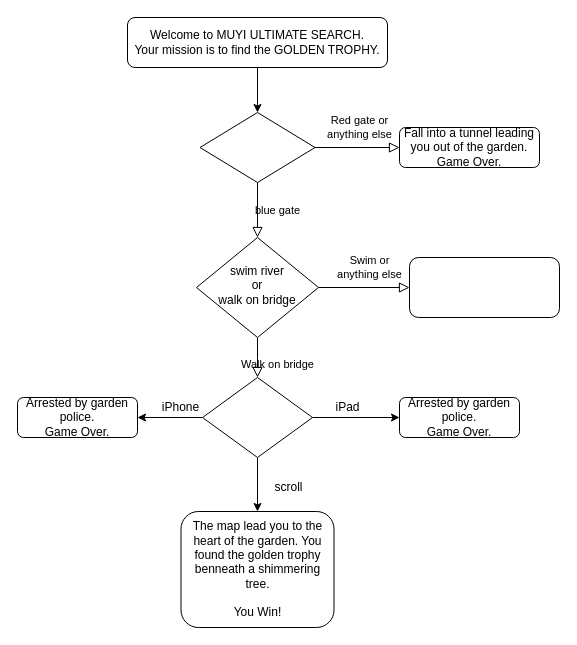
Some shapes in this 577 by 645 pixel diagram are drawn without their labels. The shapes that lost their labels are listed below. From the top down, each one's centre as x and y in pixels, then its label:
At (x=257, y=147): "blue gate or red gate?".
At (x=484, y=287): "Swallowed by Dorphin. Game Over.".
At (x=257, y=417): "find the right map".
